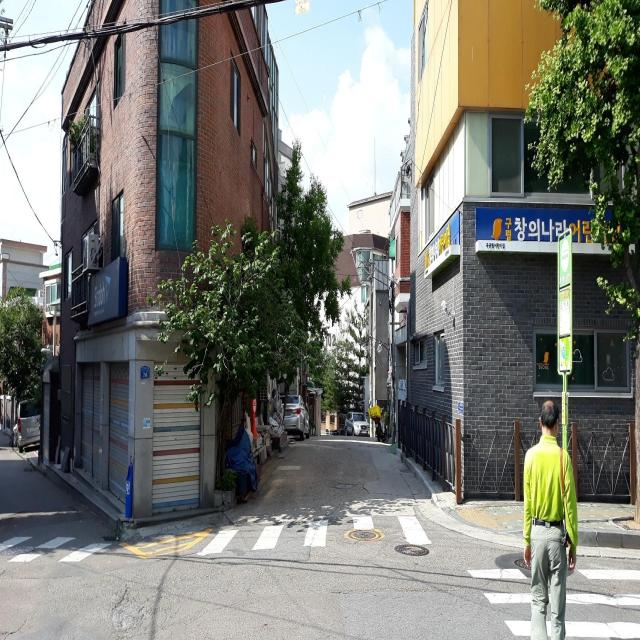횡단보도: (0, 494, 438, 568), (467, 567, 639, 640)
